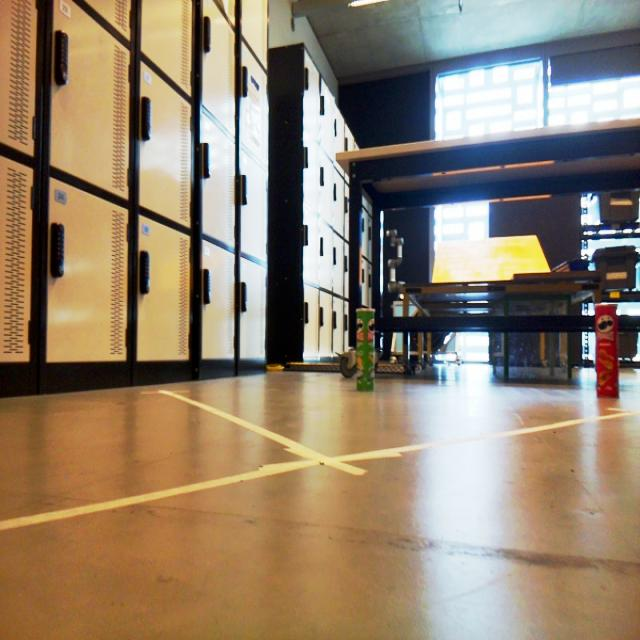greenpringles: (348, 292, 384, 398)
redpringles: (586, 296, 630, 405)
